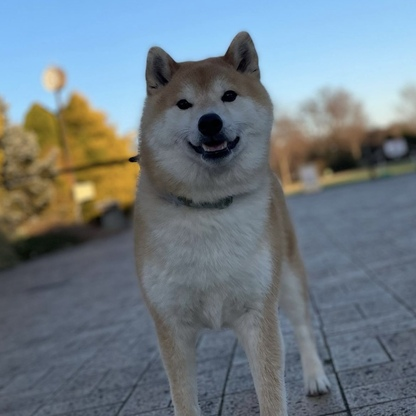shiba: (121, 27, 340, 416)
